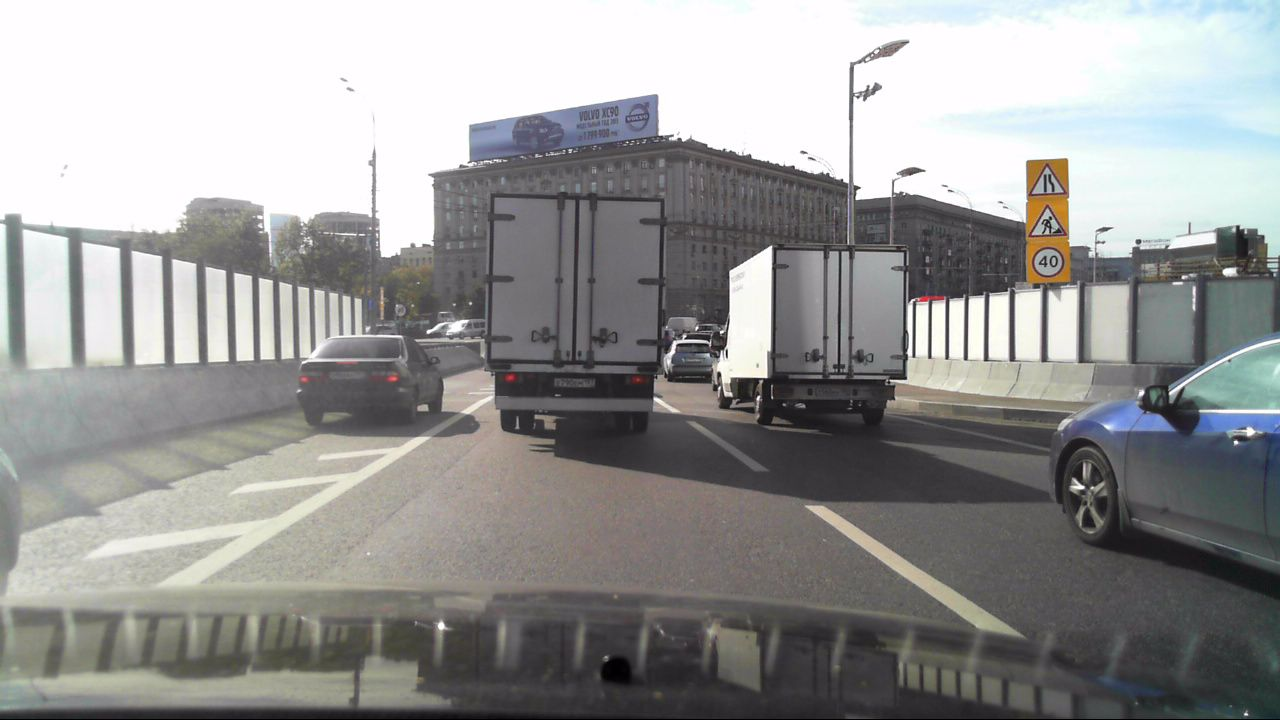speed_warning_40: (1024, 240, 1070, 283)
